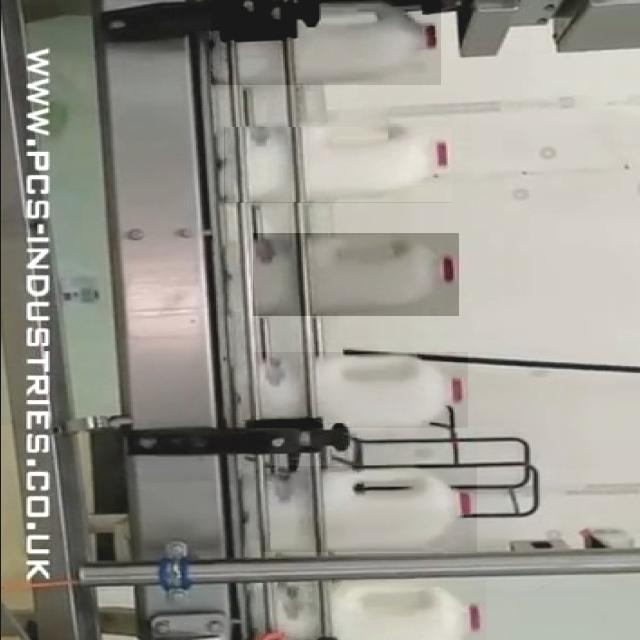red: (239, 222, 459, 318), (231, 113, 450, 198), (216, 0, 438, 83), (262, 470, 478, 548), (245, 348, 470, 421), (262, 565, 483, 636)
